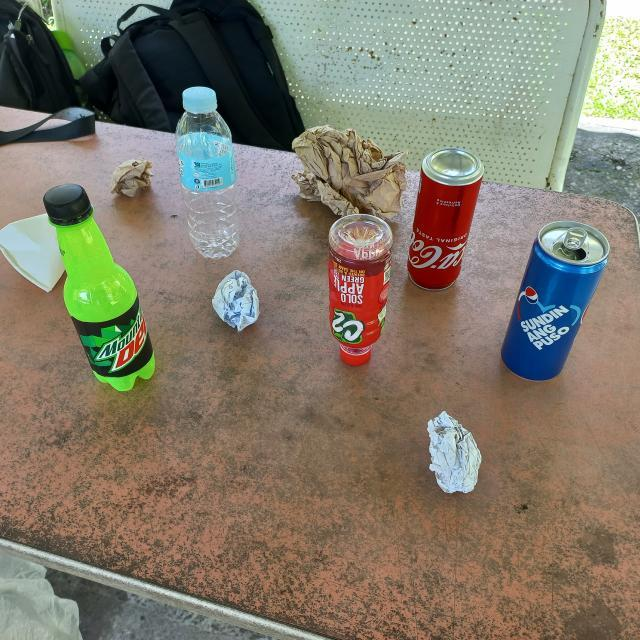recyclable waste: (38, 178, 160, 396), (495, 214, 617, 389), (286, 119, 414, 228), (172, 80, 246, 262), (403, 142, 489, 296), (320, 209, 398, 373), (0, 201, 70, 297), (422, 406, 487, 501), (206, 263, 266, 336), (104, 155, 158, 201)
